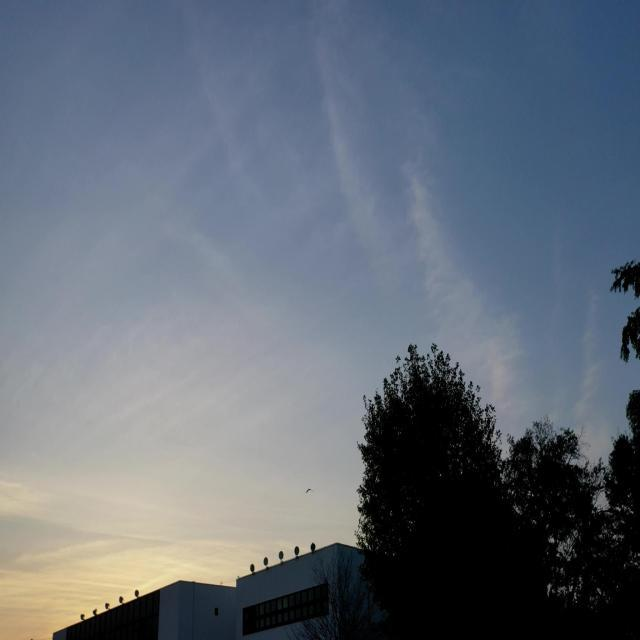Birds: (302, 481, 317, 496)
